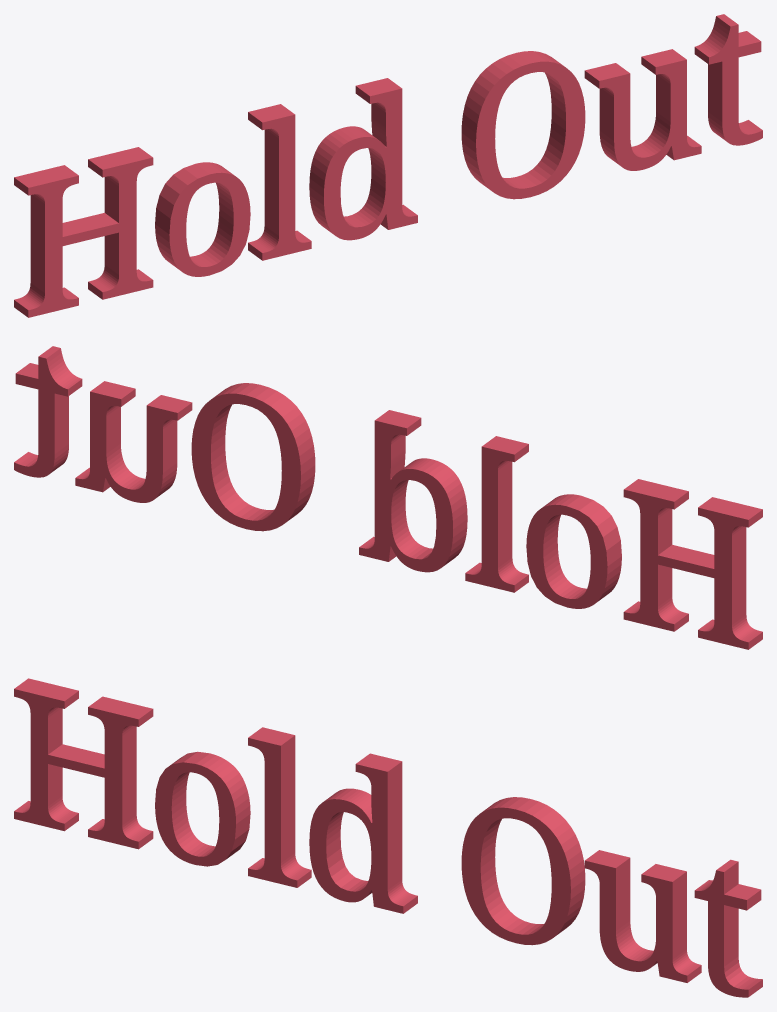
Rendered from HoldOut.fbx.
The picture shows the model from 3 angles, top to bottom: view 1: azimuth 30°, elevation 25°; view 2: azimuth 150°, elevation 25°; view 3: azimuth 330°, elevation 25°; orthographic projection.
Visible parts, largest first — view 1: tinker:group_0_15277357; view 2: tinker:group_0_15277357; view 3: tinker:group_0_15277357.
Boxes of the visible parts, box(x1,y1,x2,y2) form: tinker:group_0_15277357: box(14, 14, 762, 317); tinker:group_0_15277357: box(14, 346, 762, 649); tinker:group_0_15277357: box(14, 678, 762, 997).
Bounding box in the file's own units: 117 × 21.38 × 4.
